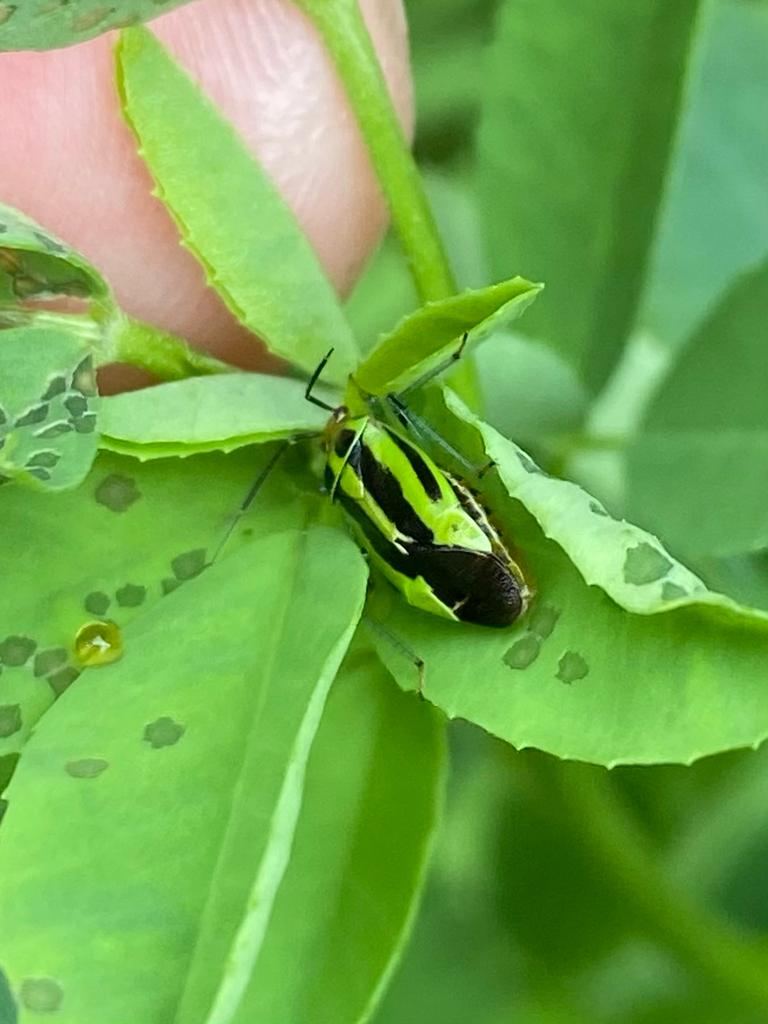plant_bugs: (186, 294, 589, 689)
